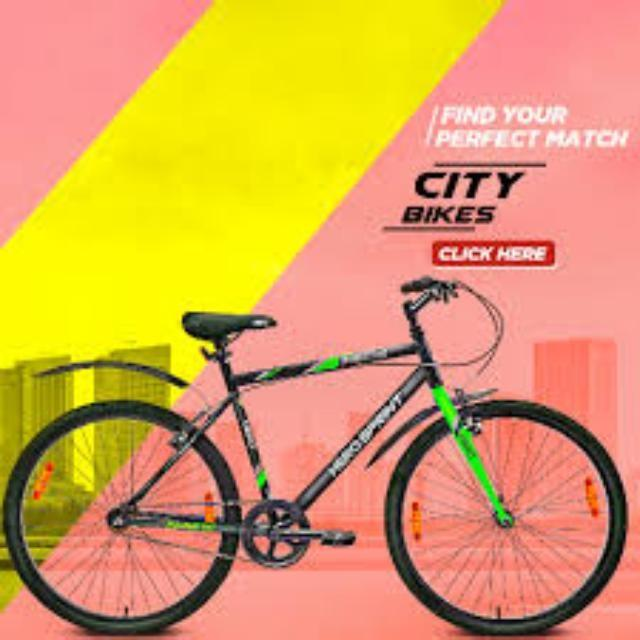obstacle: (5, 276, 640, 634)
